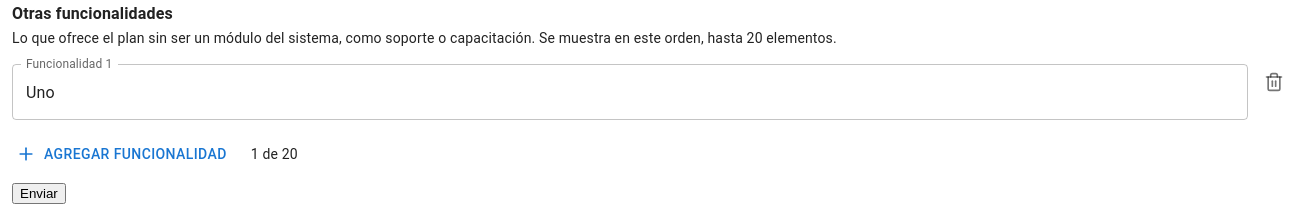
Test: OtherFeaturesField › moves the focus to «Agregar funcionalidad» when no element is left
The width and height of the screenshot is (1304, 221).
Click the button named "Quitar la funcionalidad 1".
click(1274, 82)  # box 1256,64 -> 1292,100
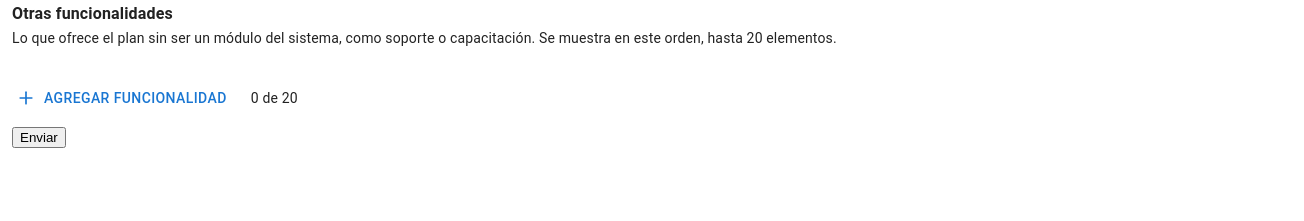
Check: no labels "Funcionalidad 1" are shown
